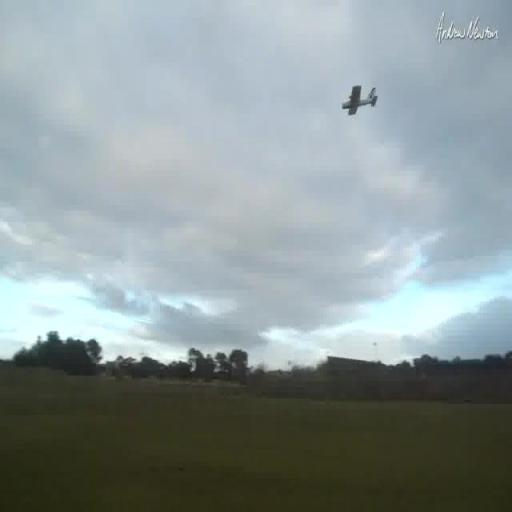uav: (341, 83, 382, 126)
